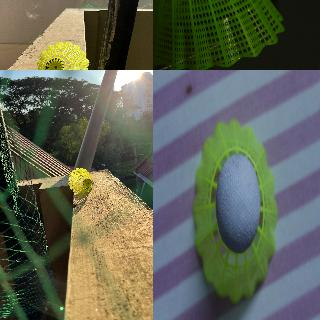shuttlecock: (192, 120, 278, 302), (153, 0, 284, 69), (37, 41, 90, 69), (68, 167, 92, 193)
